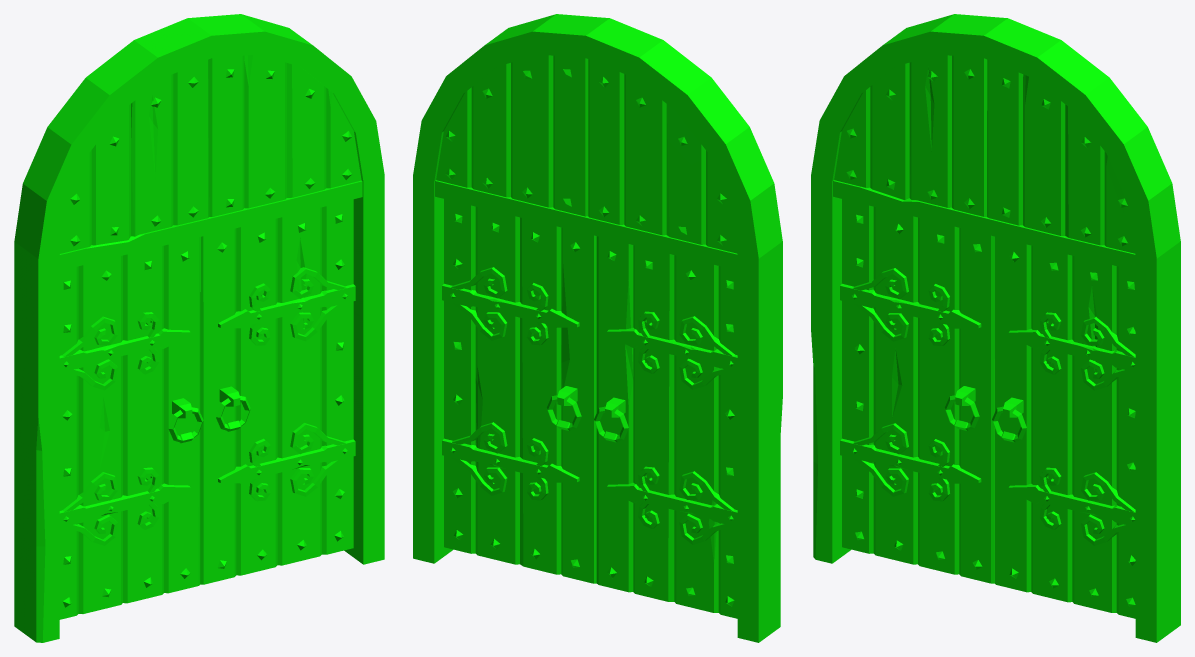
File: SM_Door_Double_B_Regular_Fantasy.fbx
3 renders of one model, left to right at view 1: azimuth 30°, elevation 25°; view 2: azimuth 150°, elevation 25°; view 3: azimuth 330°, elevation 25°, orthographic.
Parts seen in each view (by area): view 1: door-double-b-regular-fantasy-frame, door-double-b-regular-fantasy-door-r, door-double-b-regular-fantasy-door-l; view 2: door-double-b-regular-fantasy-frame, door-double-b-regular-fantasy-door-r, door-double-b-regular-fantasy-door-l; view 3: door-double-b-regular-fantasy-frame, door-double-b-regular-fantasy-door-l, door-double-b-regular-fantasy-door-r.
Part boxes in pixels (x1,y1,x2,y2): door-double-b-regular-fantasy-frame: [14, 14, 384, 642]; door-double-b-regular-fantasy-door-r: [200, 199, 355, 584]; door-double-b-regular-fantasy-door-l: [59, 237, 203, 619]; door-double-b-regular-fantasy-frame: [413, 14, 782, 642]; door-double-b-regular-fantasy-door-r: [442, 199, 596, 583]; door-double-b-regular-fantasy-door-l: [594, 236, 737, 618]; door-double-b-regular-fantasy-frame: [811, 14, 1180, 642]; door-double-b-regular-fantasy-door-l: [840, 199, 994, 583]; door-double-b-regular-fantasy-door-r: [992, 236, 1135, 618].
Size of the model in its own units: 2.28 by 3.56 by 0.3077.
